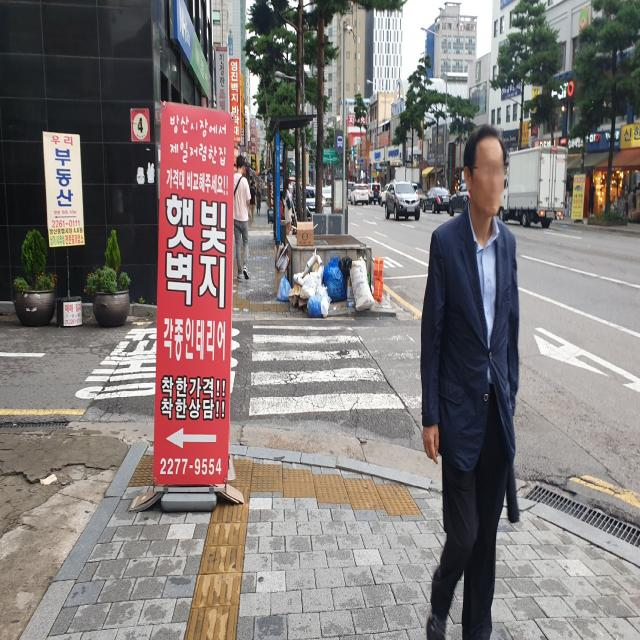횡단보도: (247, 326, 406, 416)
